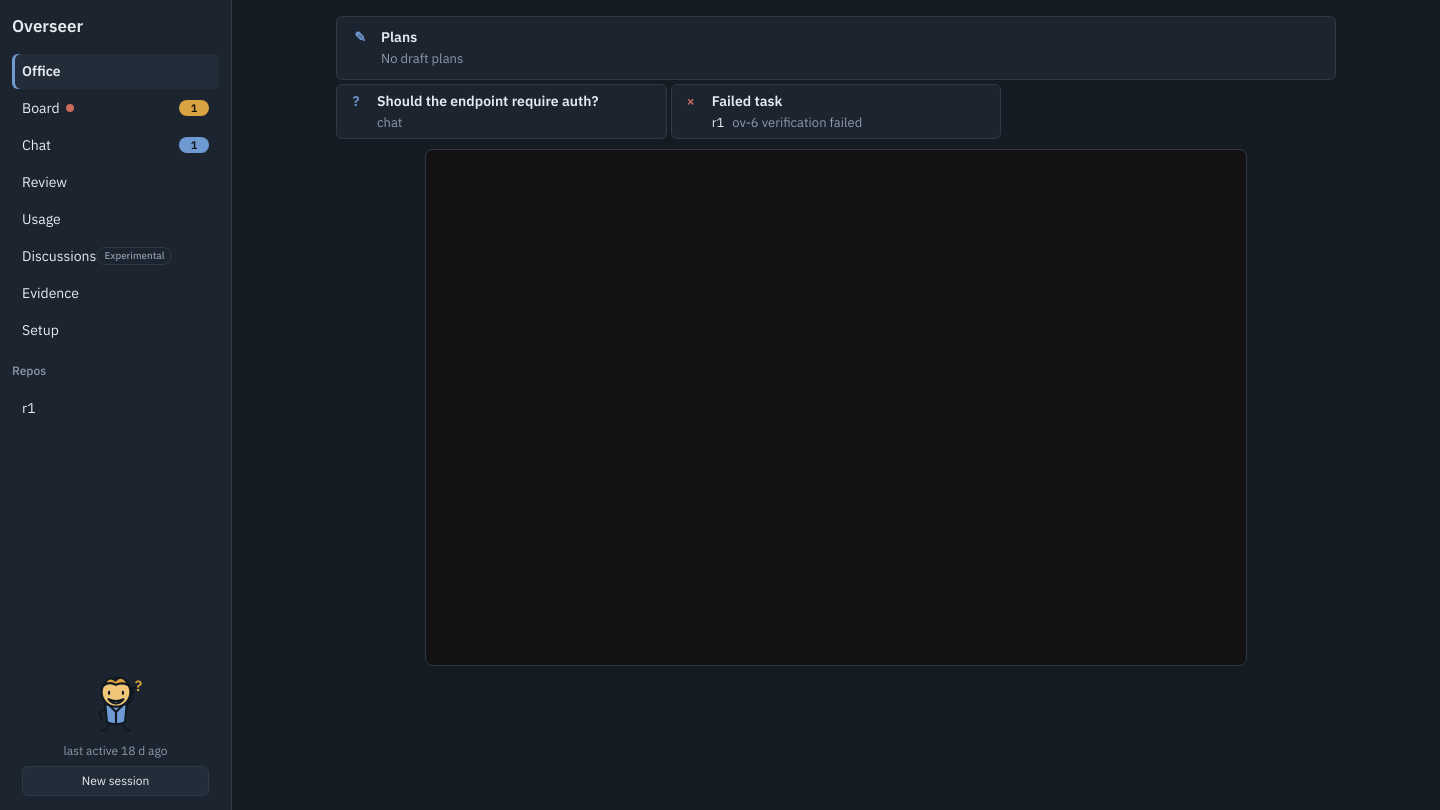
Test case: App › opens a failed Office strip item in its TaskPane without leaving Office
This screenshot has width=1440, height=810.
Click the button with aria-label "verification: Failed task" at (836, 111), box [671, 84, 1001, 139]
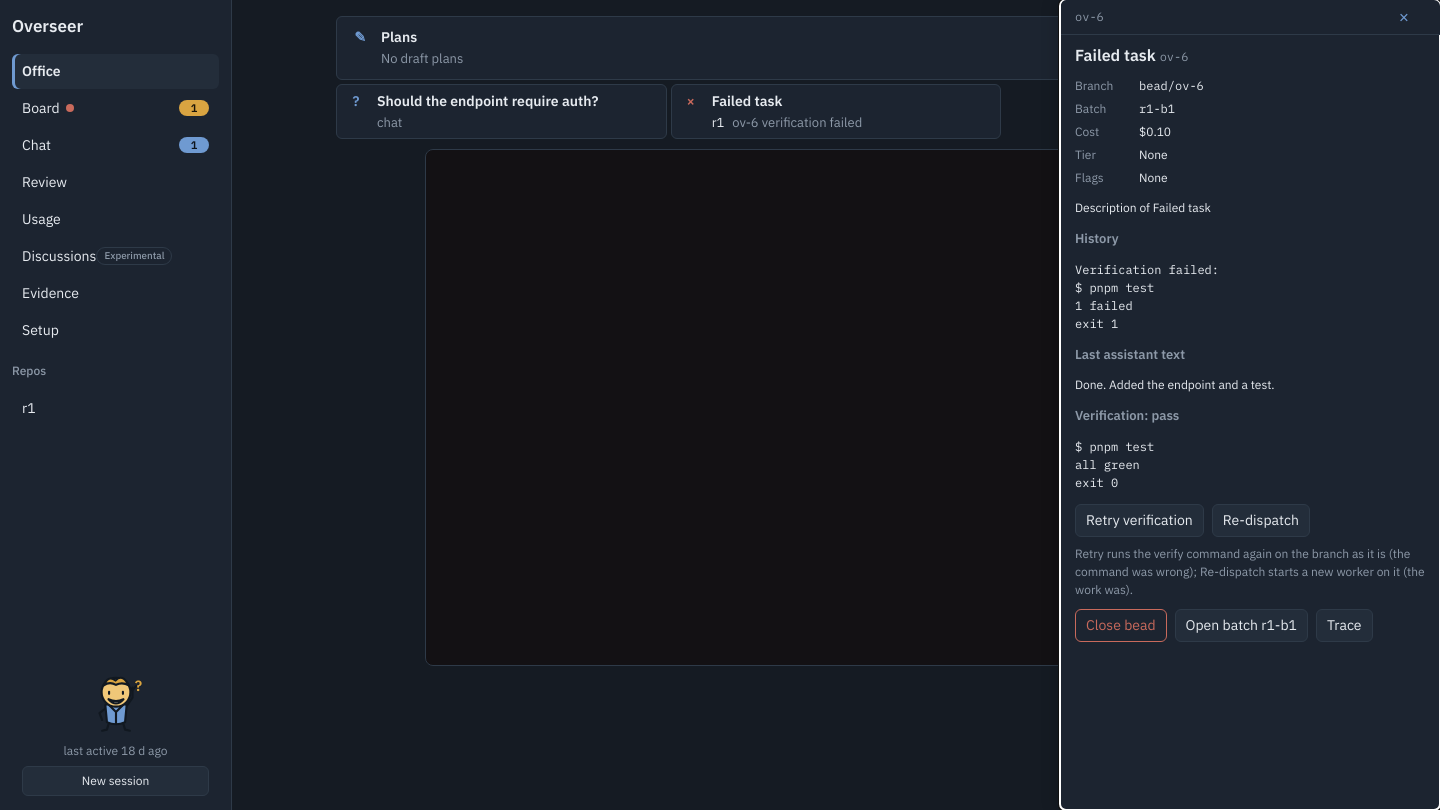
Result: the element named "Details of ov-6" is shown at [1060, 0, 1439, 809]
